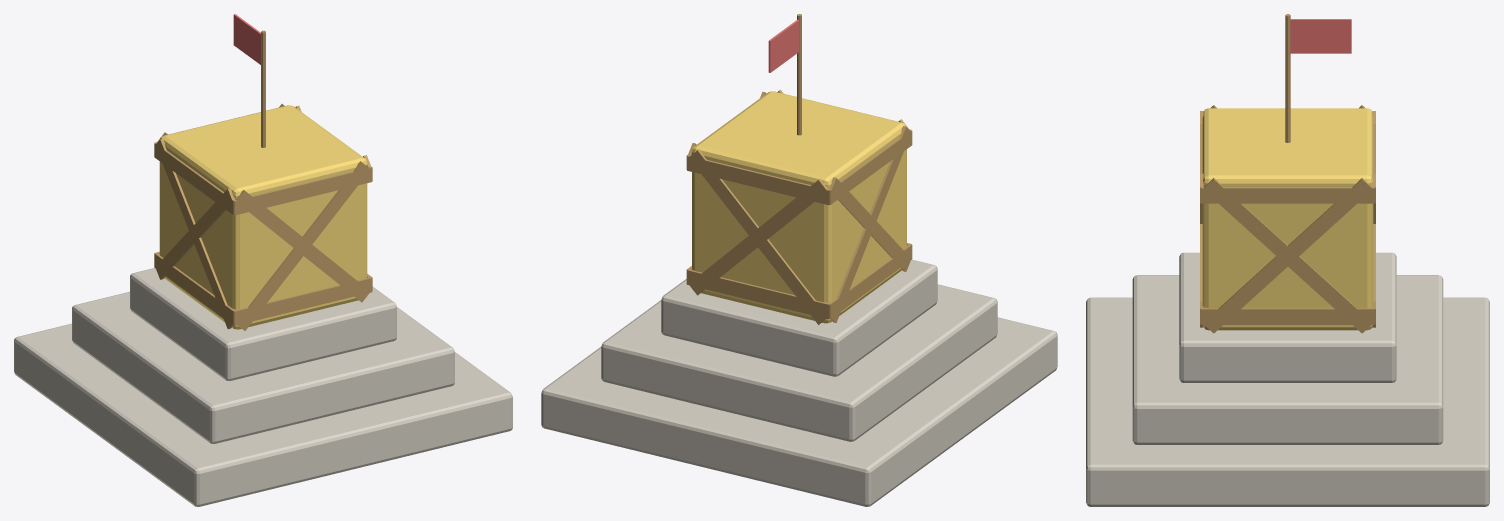
Rendered from monument.glb.
The picture shows the model from 3 angles, left to right: view 1: azimuth 30°, elevation 25°; view 2: azimuth 150°, elevation 25°; view 3: azimuth 270°, elevation 25°; orthographic projection. The views are drawn at different scales.
Visible parts, largest first — view 1: monument; view 2: monument; view 3: monument.
Part boxes in pixels (x1,y1,x2,y2): monument: [14, 14, 512, 506]; monument: [541, 14, 1057, 506]; monument: [1086, 14, 1489, 506].
Bounding box in the file's own units: 26 × 29 × 26.
